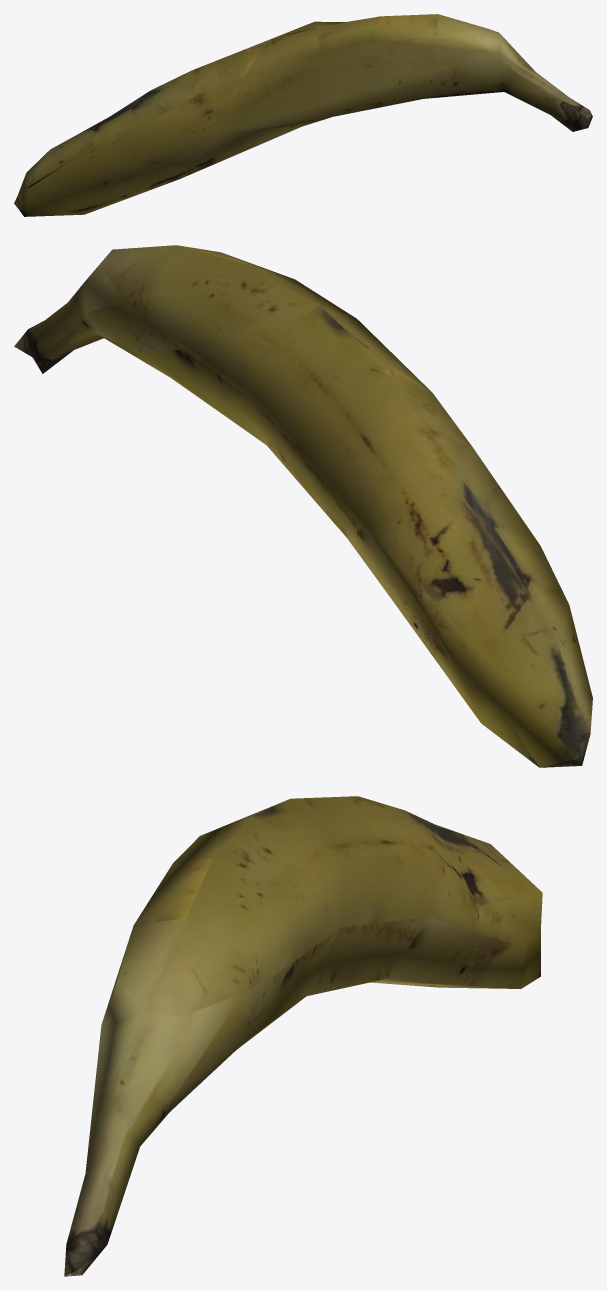
File: Banana.glb
3 views of the same model, one above another, from view 1: azimuth 30°, elevation 25°; view 2: azimuth 150°, elevation 25°; view 3: azimuth 270°, elevation 25° (orthographic). The views are drawn at different scales.
Visible parts, largest first — view 1: SM_Banana; view 2: SM_Banana; view 3: SM_Banana.
Part boxes in pixels (box(x1,y1,x2,y2)): SM_Banana: box(14, 14, 592, 216); SM_Banana: box(14, 245, 592, 767); SM_Banana: box(64, 796, 542, 1276).
Size of the model in its own units: 0.3166 by 0.1215 by 0.1407.
1 material, 1 textured.
